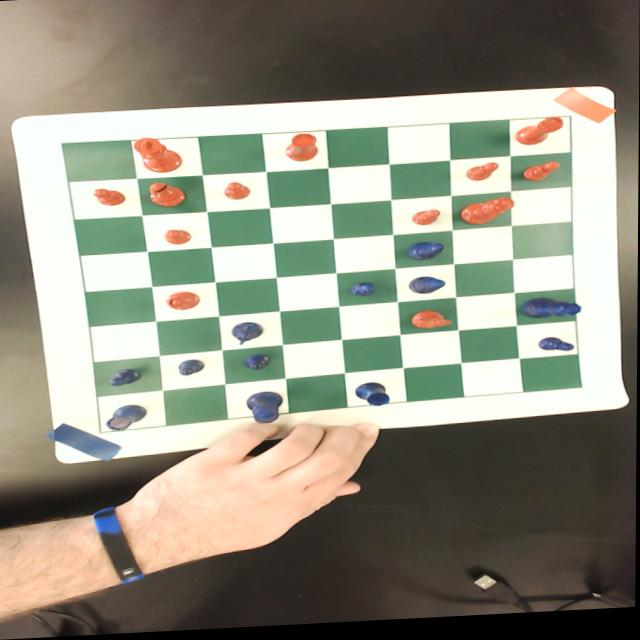B: (407, 244, 445, 266), (409, 279, 447, 299)
K: (246, 392, 285, 426)
N: (231, 324, 265, 347)
P: (539, 341, 577, 358), (109, 369, 143, 387), (178, 360, 206, 378), (244, 356, 272, 373), (351, 285, 377, 300)
Q: (521, 301, 584, 324)
R: (106, 403, 148, 432), (355, 384, 391, 410)
b: (148, 181, 187, 209), (167, 293, 202, 312)
cb: (62, 121, 582, 433)
k: (133, 137, 184, 175)
n: (411, 313, 452, 333)
p: (522, 166, 562, 188), (93, 187, 127, 208), (466, 167, 500, 186), (412, 213, 442, 230), (226, 183, 252, 202), (164, 229, 193, 246)
q: (459, 201, 517, 229)
r: (515, 121, 564, 151), (286, 135, 319, 164)
